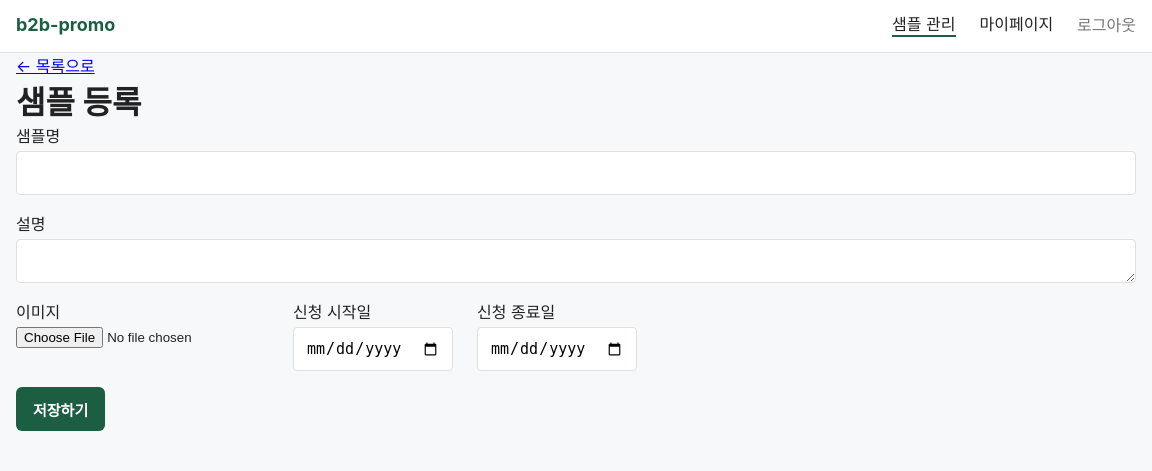
SampleFormPage › 등록 실패(400) 시 에러 메시지가 화면에 표시된다
Type "샘플A" into the field labelled "샘플명".
click(576, 173); type("샘플A")  # box [16, 151, 1136, 195]
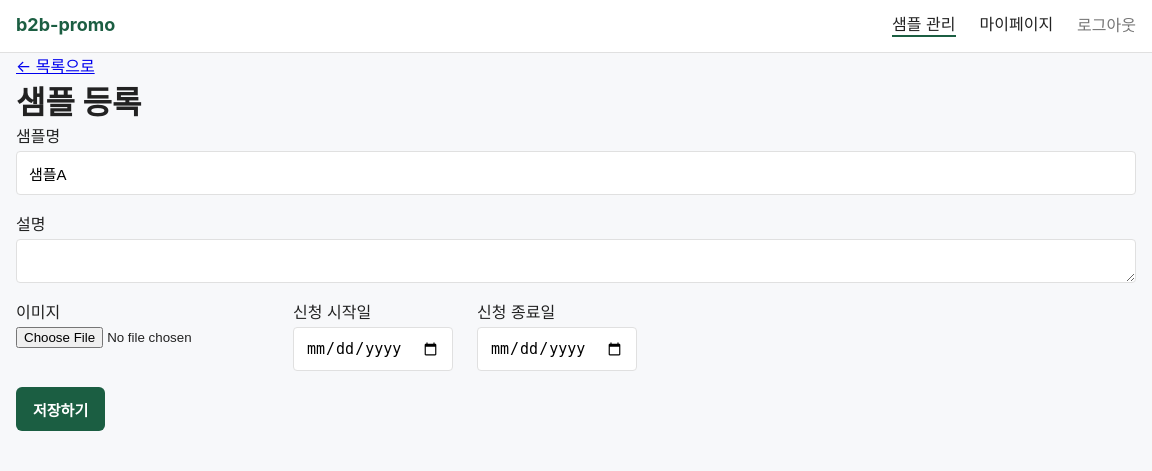
Type "2026-08-01" into the date field labelled "신청 시작일".
click(373, 349); type("2026-08-01")  # box [293, 327, 453, 371]
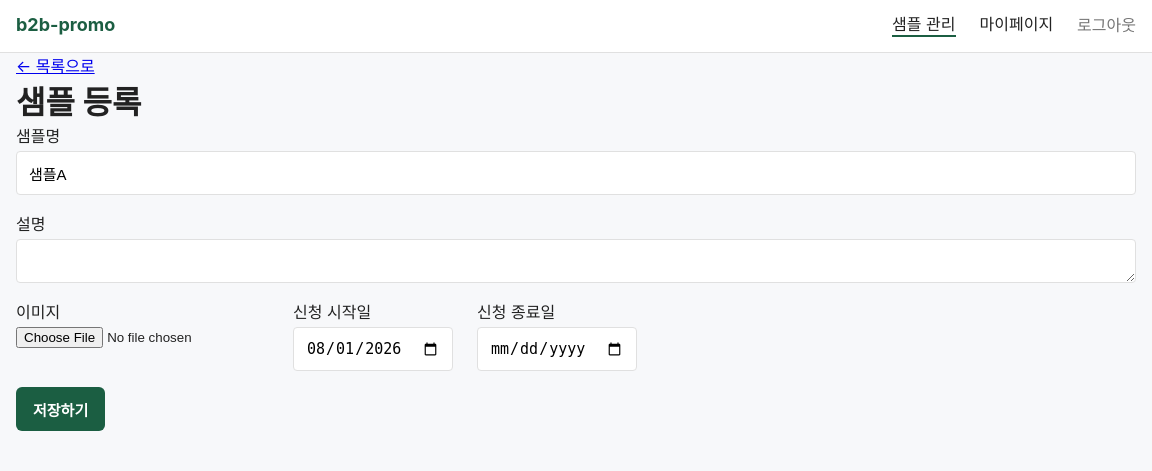
Type "2026-08-20" into the date field labelled "신청 종료일".
click(557, 349); type("2026-08-20")  # box [477, 327, 637, 371]
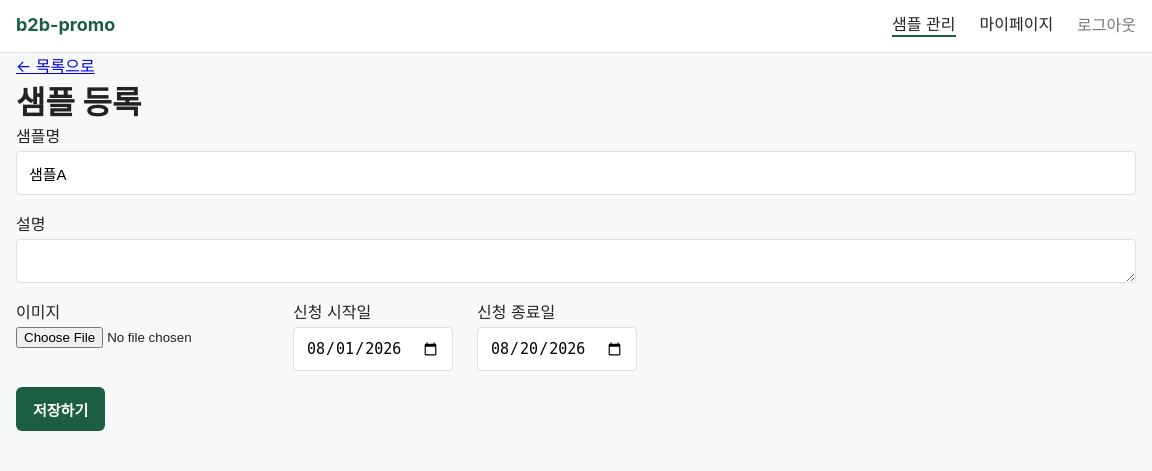
Click the button "저장하기".
click(61, 409)  # box [16, 387, 105, 431]
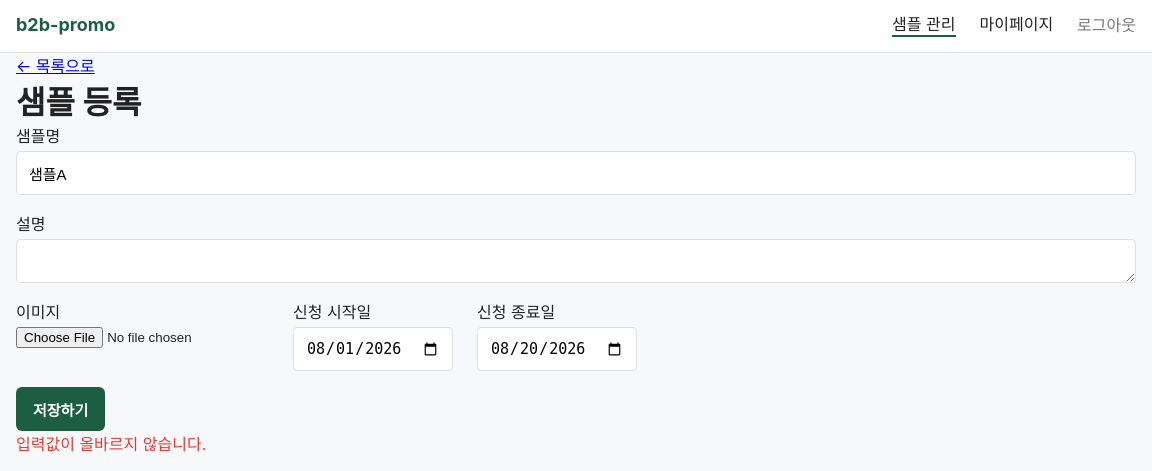
Check: the text "입력값이 올바르지 않습니다." is shown, box [16, 434, 206, 454]
